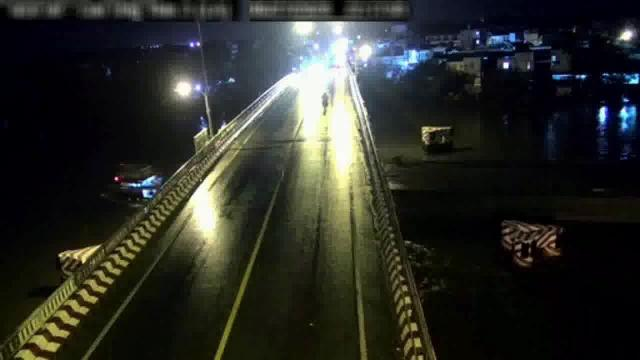Bike: (318, 90, 330, 115)
